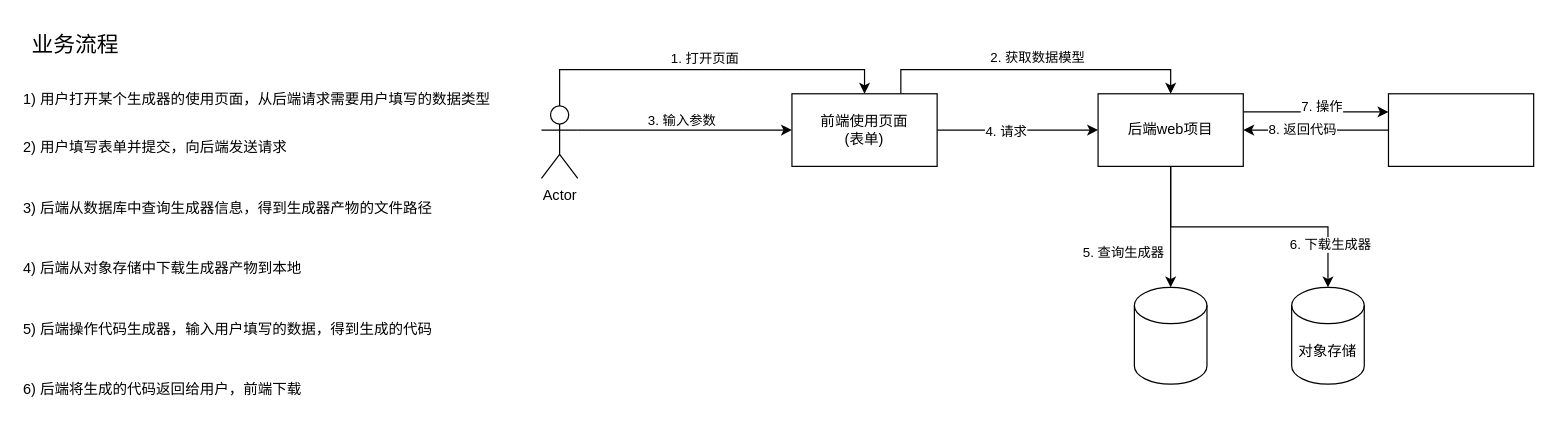
Image size: 1555x428. Some labels were removed from this diagram. The shapes that lost their labels are listed below. From the top down, each one's centre as x and y in pixels, then its label:
the point at 1460,129: 代码生成器
the point at 1170,335: 数据库
